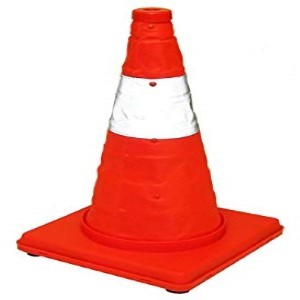traffic cone: (16, 8, 284, 294)
